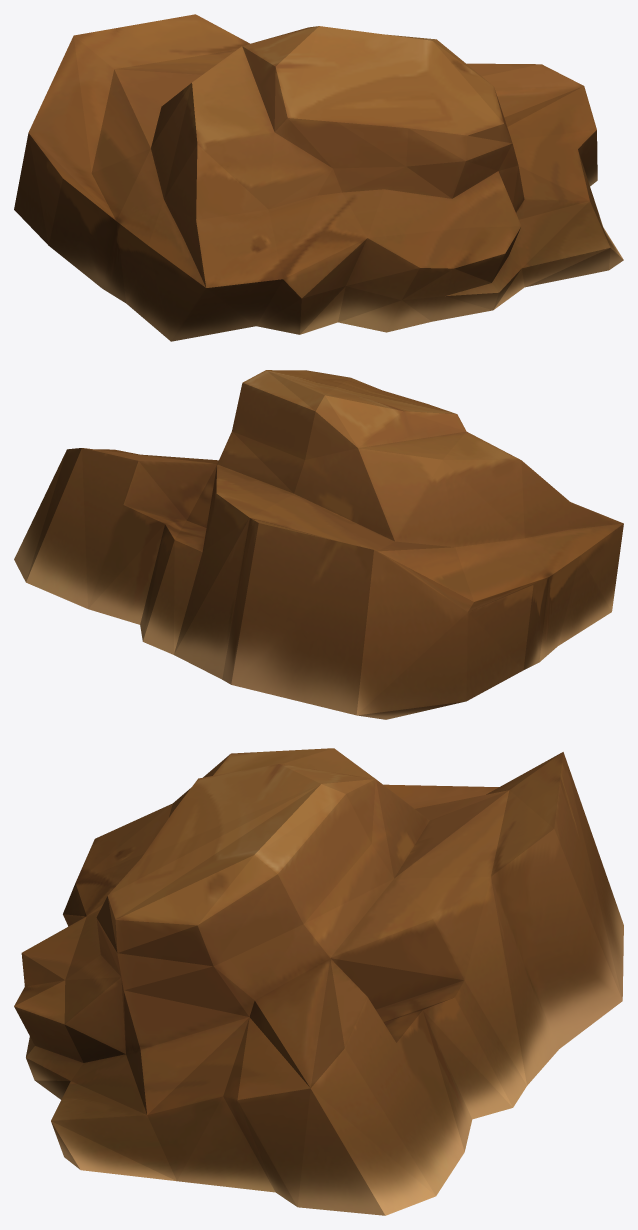
The model's file is difuchangjing_shitou09.FBX.
The picture shows the model from 3 angles, top to bottom: view 1: azimuth 30°, elevation 25°; view 2: azimuth 150°, elevation 25°; view 3: azimuth 270°, elevation 25°; orthographic projection. The views are drawn at different scales.
Parts seen in each view (by area): view 1: difuchangjing_shitou09; view 2: difuchangjing_shitou09; view 3: difuchangjing_shitou09.
Boxes of the visible parts, left/top/right/bottom form: difuchangjing_shitou09: left=14, top=14, right=623, bottom=341; difuchangjing_shitou09: left=14, top=370, right=623, bottom=719; difuchangjing_shitou09: left=14, top=748, right=623, bottom=1215.
Size of the model in its own units: 336 by 132 by 279.
